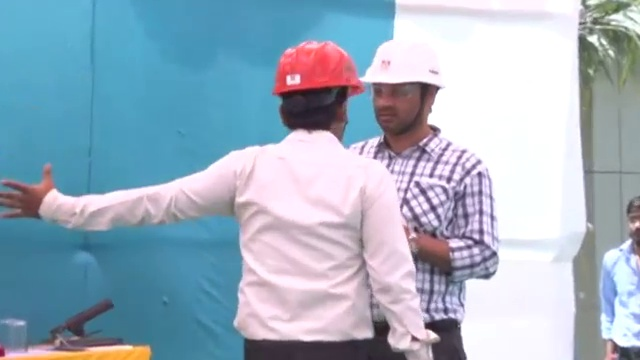helmet: (270, 36, 364, 100), (362, 35, 446, 90)
helmet_off: (627, 195, 640, 238)
helmet_on: (266, 34, 360, 142), (364, 33, 445, 156)
person: (1, 38, 433, 360), (348, 35, 500, 360), (599, 195, 639, 360)
